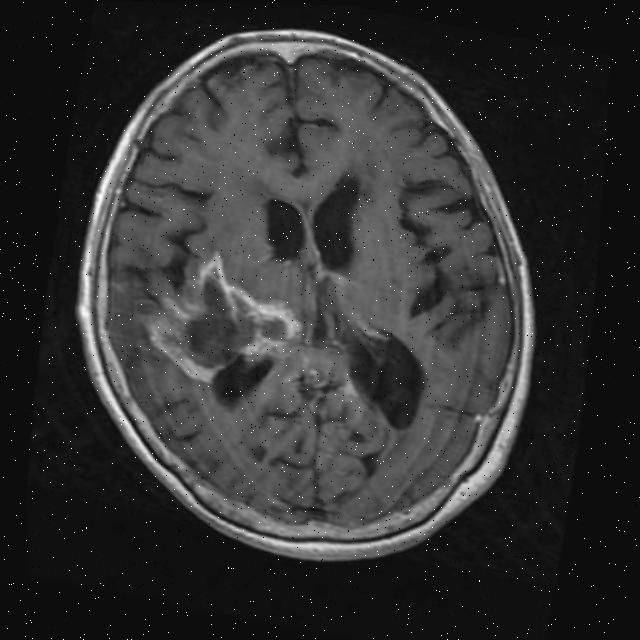Glioma: (136, 240, 248, 388), (217, 281, 311, 378)
